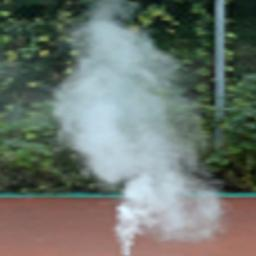smoke: (53, 0, 222, 255)
